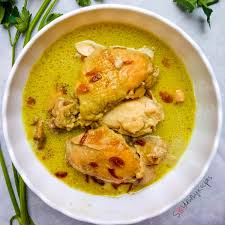Opor ayam: (22, 24, 197, 198)
